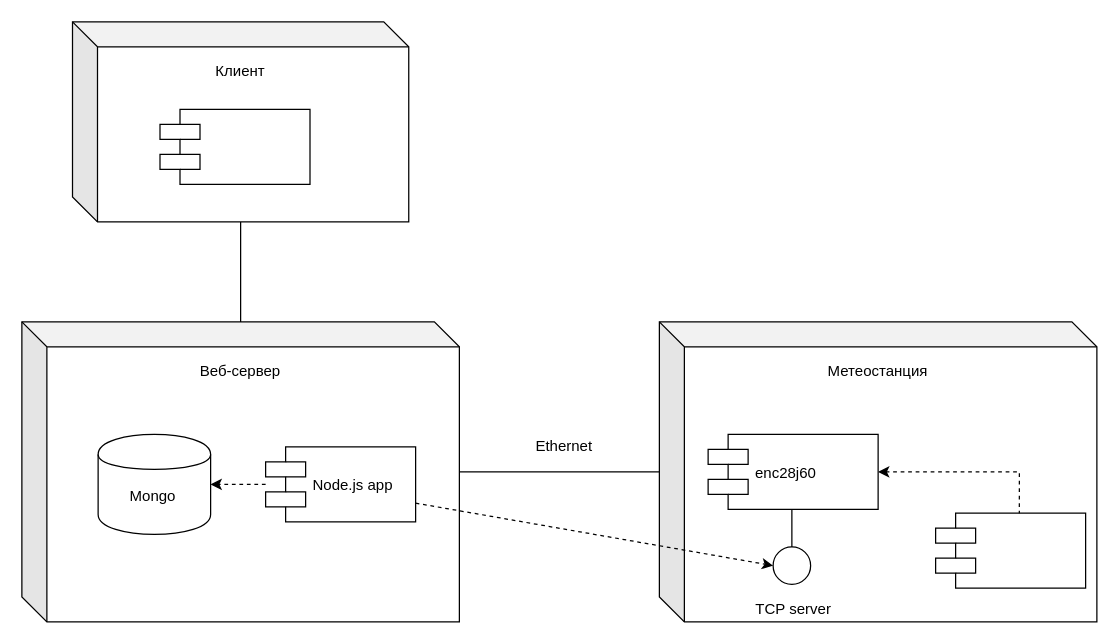
Some shapes in this 1119 by 644 pixel diagram are drawn without their labels. Each missing label, with the box of its shape:
Sensors: (934, 512, 1086, 588)
Браузер: (159, 108, 310, 184)
